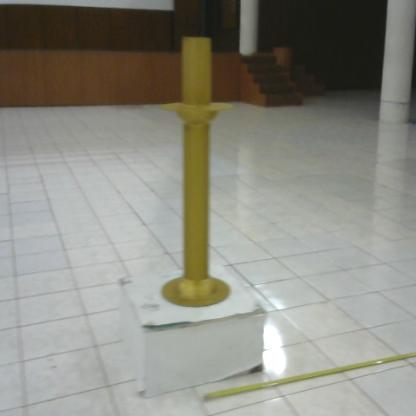pole: (154, 27, 241, 316)
